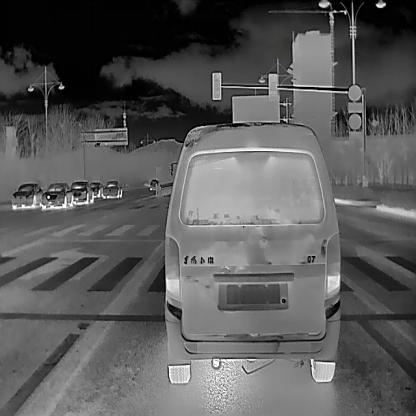car: (164, 122, 341, 383), (43, 181, 74, 208), (12, 182, 41, 208), (72, 180, 93, 203), (104, 178, 123, 198), (88, 182, 102, 197), (149, 178, 159, 189)
